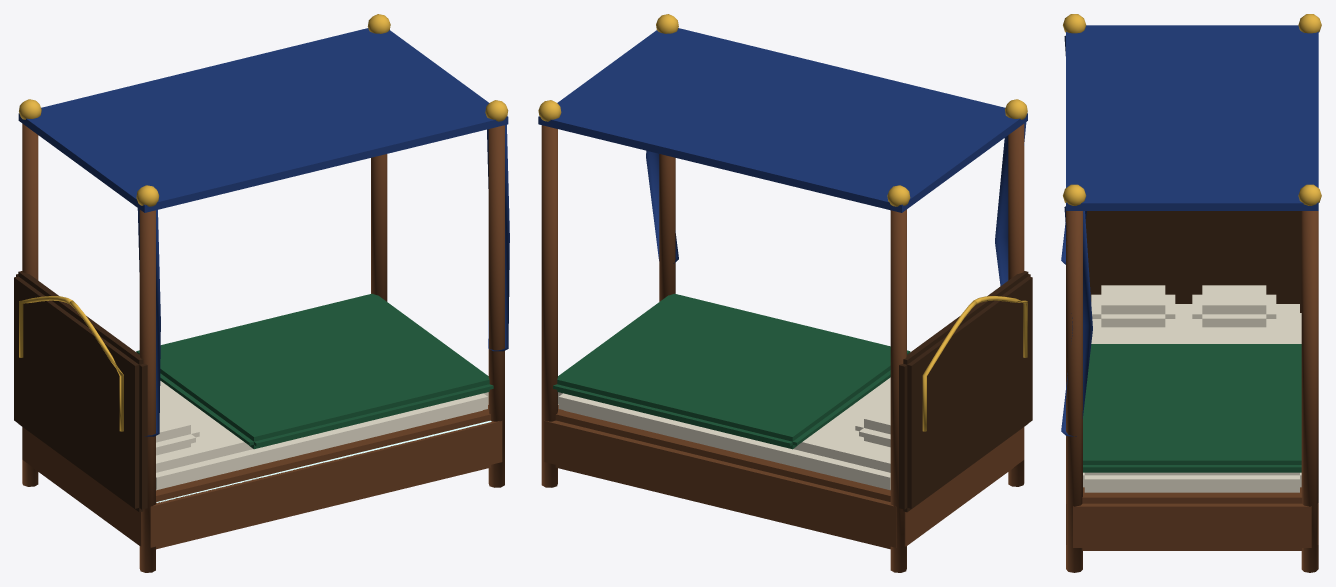
The model's file is elven-bed.glb.
3 views of the same model, side by side, from view 1: azimuth 30°, elevation 25°; view 2: azimuth 150°, elevation 25°; view 3: azimuth 270°, elevation 25° (orthographic).
Parts seen in each view (by area): view 1: Model Mesh; view 2: Model Mesh; view 3: Model Mesh.
Part boxes in pixels (box(x1,y1,x2,y2)): Model Mesh: box(14, 14, 509, 572); Model Mesh: box(538, 14, 1032, 572); Model Mesh: box(1061, 14, 1321, 572).
Size of the model in its own units: 2.64 by 2.52 by 1.55.
